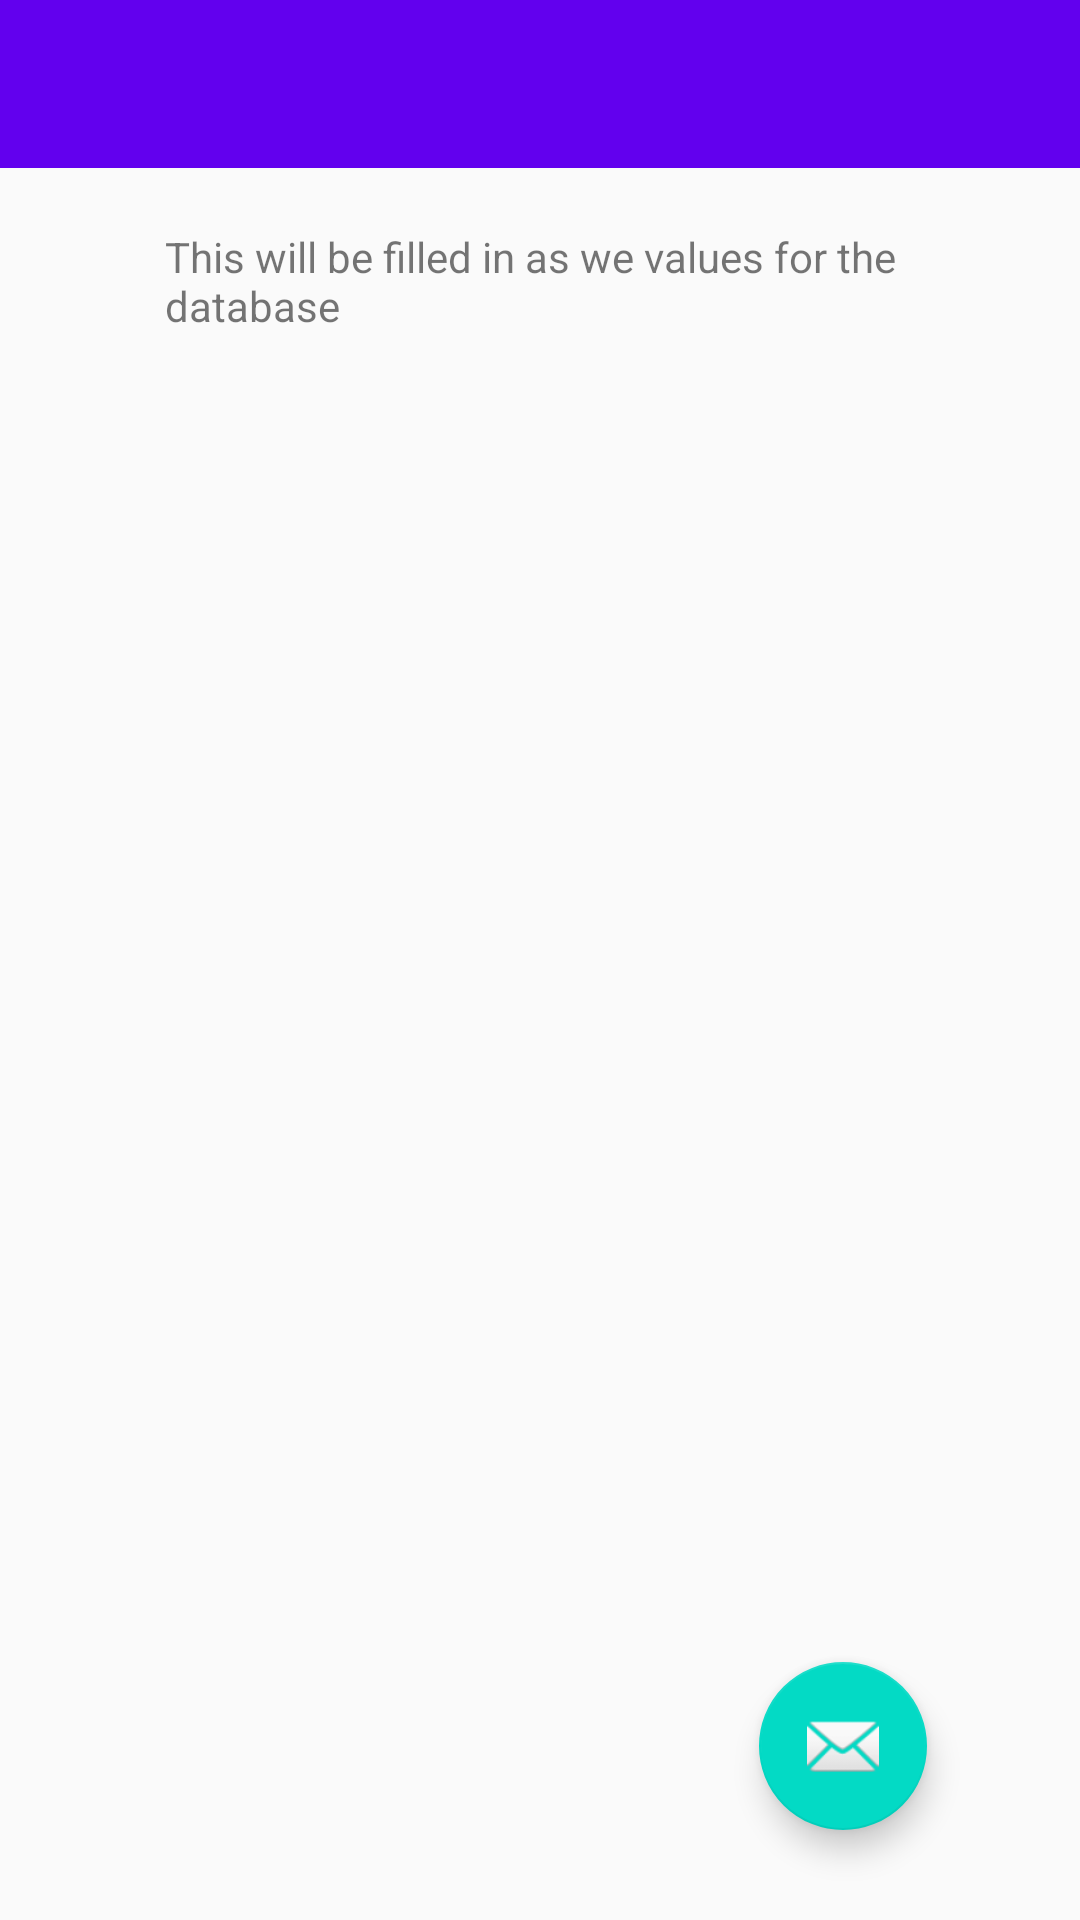

Icons on this 1080x1920 Android screen, each with the point to tap as point (x, y):
email: point (843, 1746)
